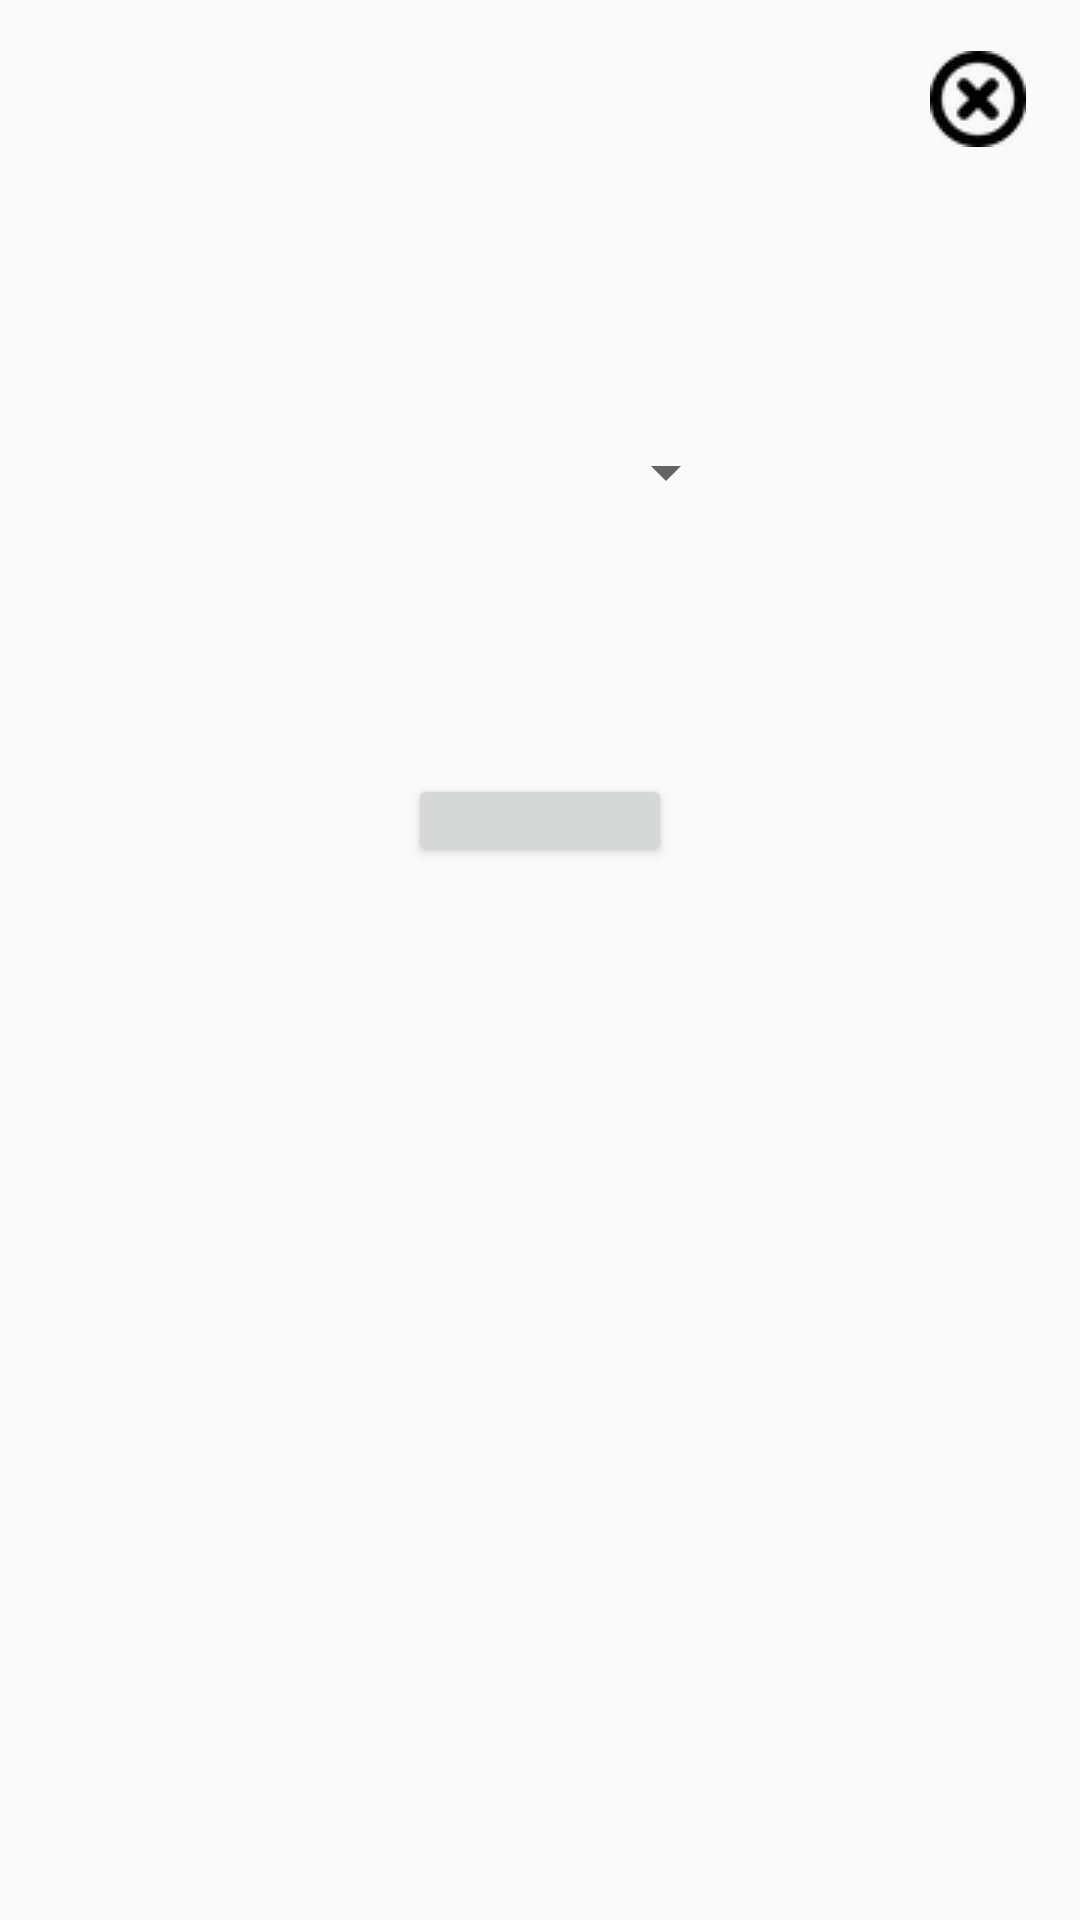

Icons on this 1080w x 1920h Android screen, each with the point to tap as (x,y):
close: (978,99)
